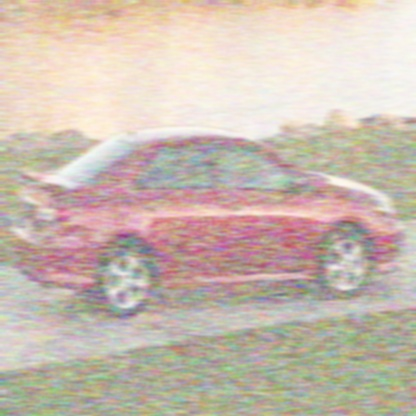Vehicle: (11, 123, 406, 319)
